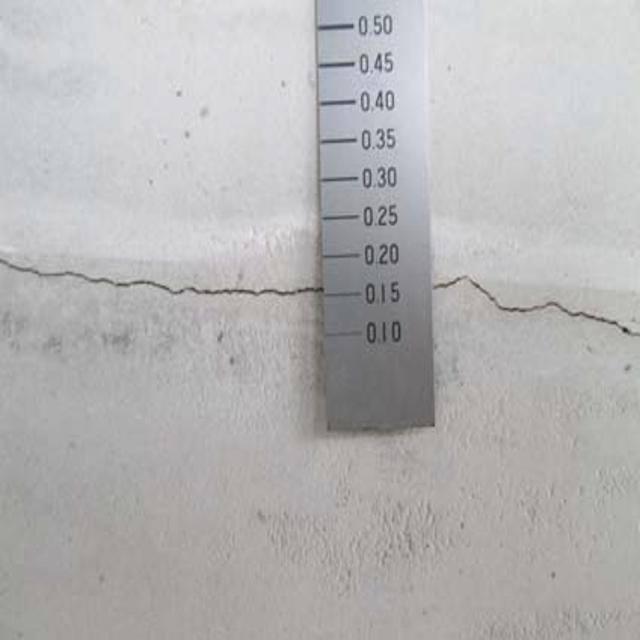crack: (0, 244, 331, 311), (434, 273, 639, 341)
